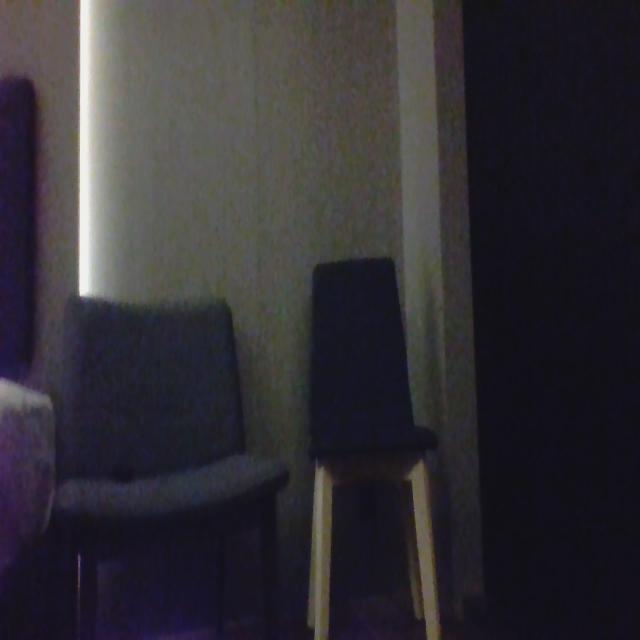empty: (60, 298, 258, 496), (300, 252, 423, 472)
